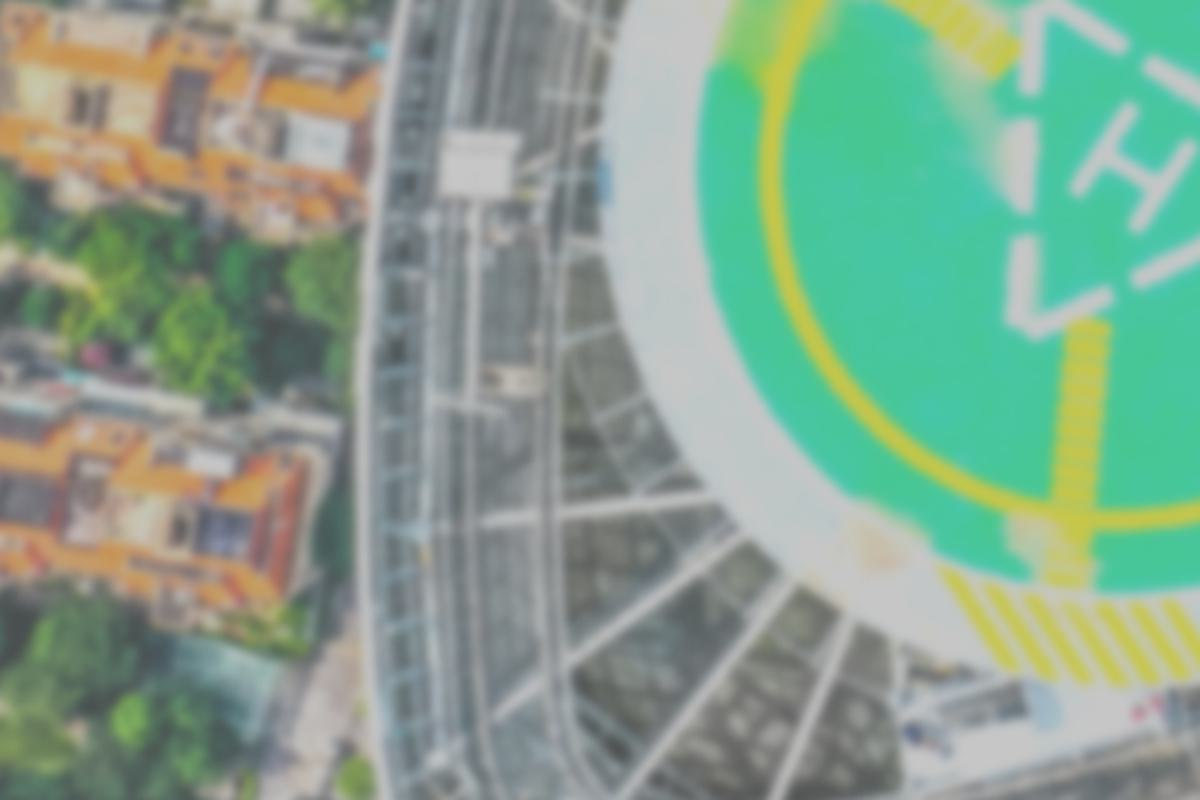Apron: (749, 1, 1200, 530)
